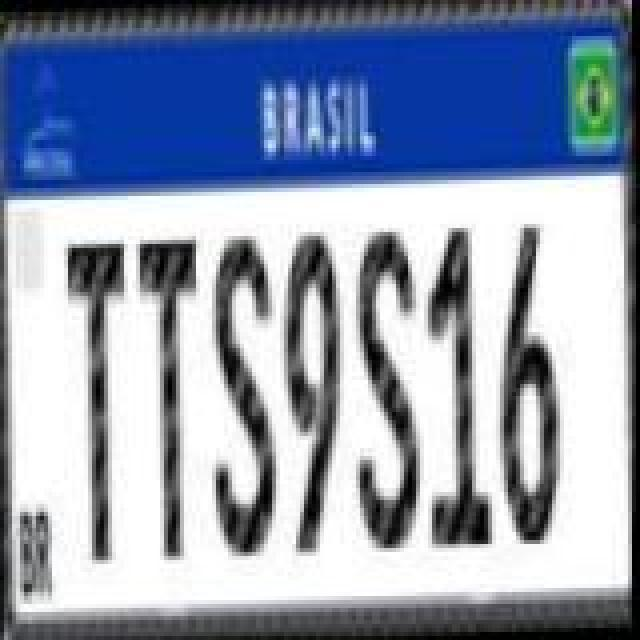1: (418, 218, 498, 554)
6: (490, 212, 570, 548)
9: (276, 224, 352, 556)
S: (204, 224, 288, 560), (348, 220, 432, 556)
T: (58, 232, 138, 568), (130, 230, 210, 562)
